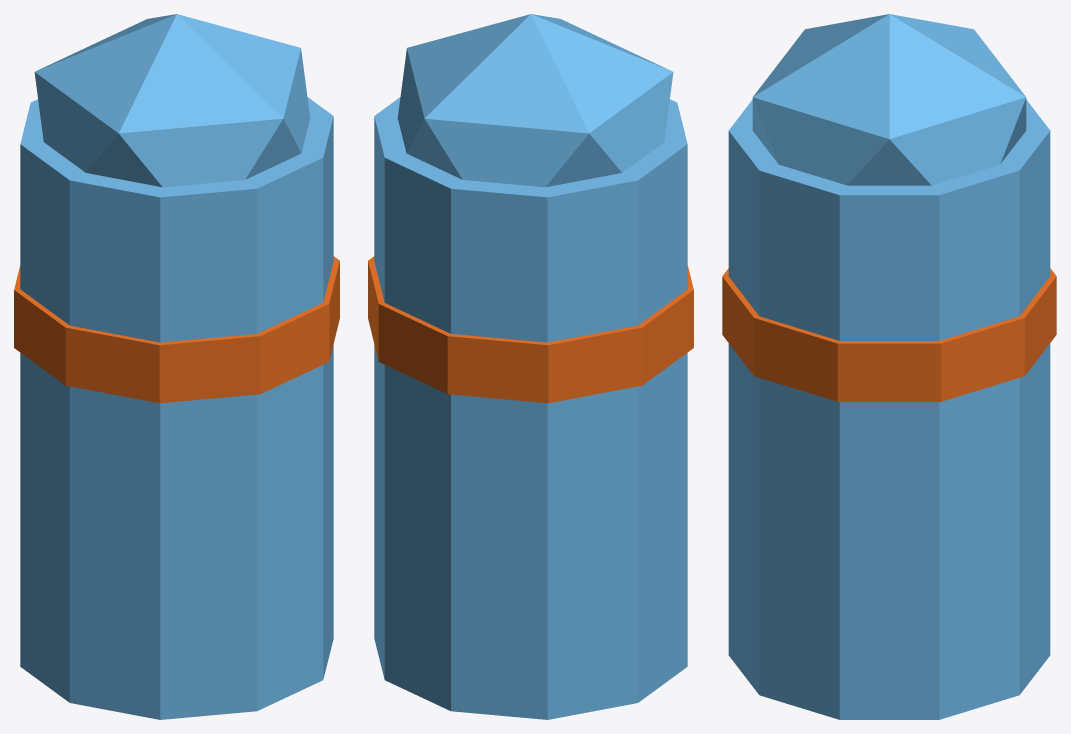
Rendered from colony-oxygen-tank.glb.
The picture shows the model from 3 angles, left to right: view 1: azimuth 30°, elevation 25°; view 2: azimuth 150°, elevation 25°; view 3: azimuth 270°, elevation 25°; orthographic projection.
Parts seen in each view (by area): view 1: oxygen_tank; view 2: oxygen_tank; view 3: oxygen_tank.
Part boxes in pixels (<box>): oxygen_tank: <box>14,14,339,719</box>; oxygen_tank: <box>368,14,693,719</box>; oxygen_tank: <box>722,14,1056,719</box>.
Bounding box in the file's own units: 0.9891 × 2.2 × 1.04.
